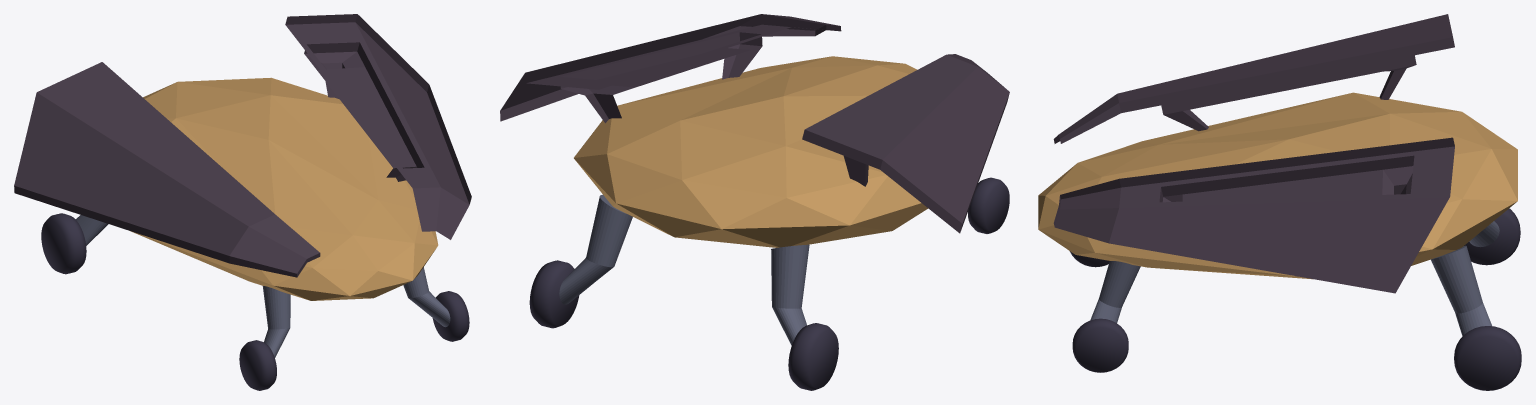
The model's file is MoonLanderV8.fbx.
3 views of the same model, side by side, from view 1: azimuth 30°, elevation 25°; view 2: azimuth 150°, elevation 25°; view 3: azimuth 270°, elevation 25° (orthographic). The views are drawn at different scales.
Visible parts, largest first — view 1: Body_MainBody.001; view 2: Body_MainBody.001; view 3: Body_MainBody.001.
Part boxes in pixels (bbox=[...]): Body_MainBody.001: bbox=[14, 14, 471, 390]; Body_MainBody.001: bbox=[500, 14, 1009, 390]; Body_MainBody.001: bbox=[1038, 14, 1521, 390].
Size of the model in its own units: 896 by 443 by 812.
